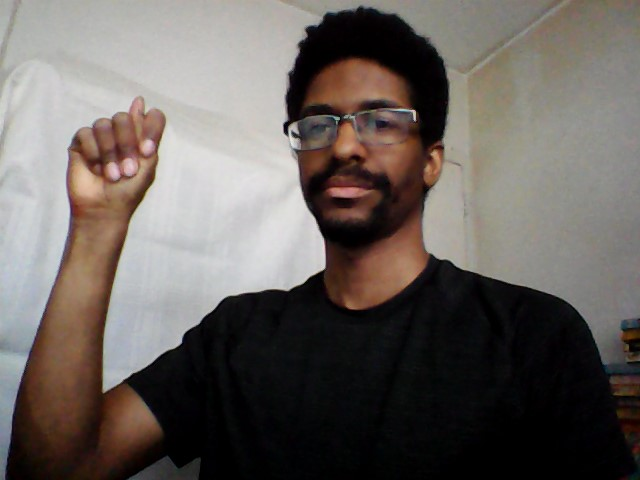t: (61, 93, 170, 215)
